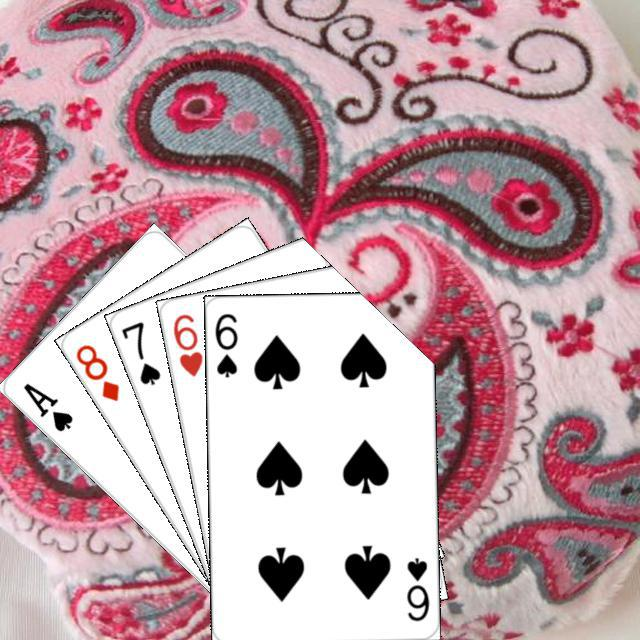6h: (168, 309, 205, 379)
6s: (210, 309, 239, 379), (402, 553, 431, 623)
7s: (116, 316, 163, 387)
8d: (70, 339, 122, 404)
As: (18, 377, 75, 434)
